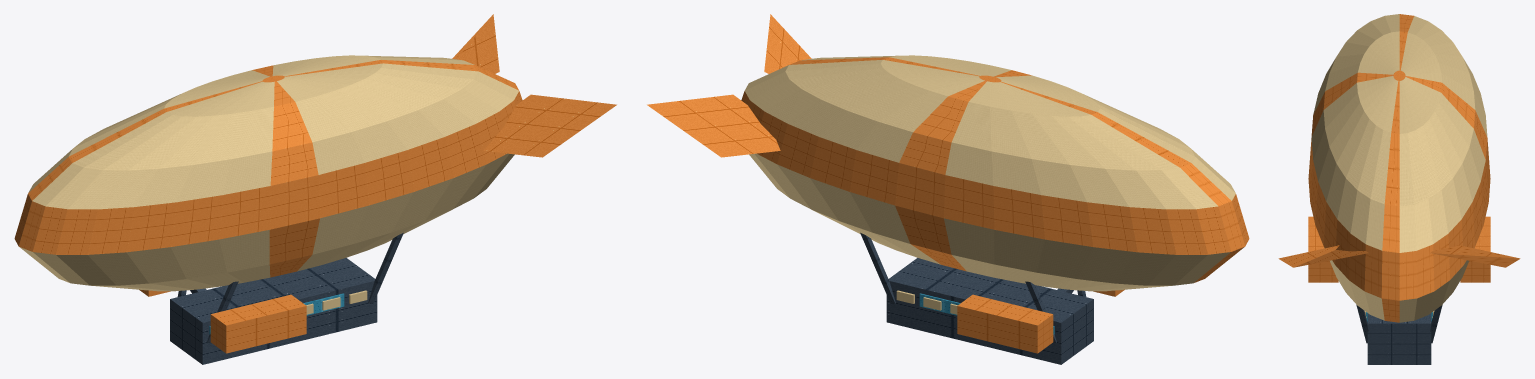
The model's file is sky_freighter.glb.
The picture shows the model from 3 angles, left to right: view 1: azimuth 30°, elevation 25°; view 2: azimuth 150°, elevation 25°; view 3: azimuth 270°, elevation 25°; orthographic projection. The views are drawn at different scales.
Bounding box in the file's own units: 40 × 18 × 16.
Materials: 1 (1 with a texture image).
